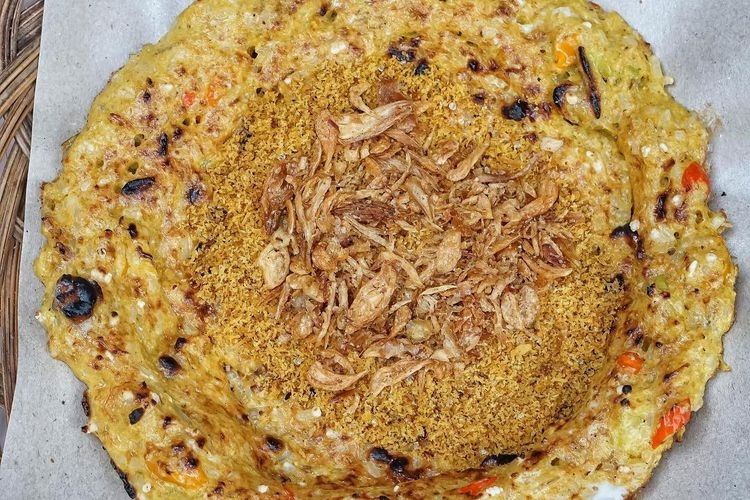kerak_telor: (39, 2, 735, 500)
